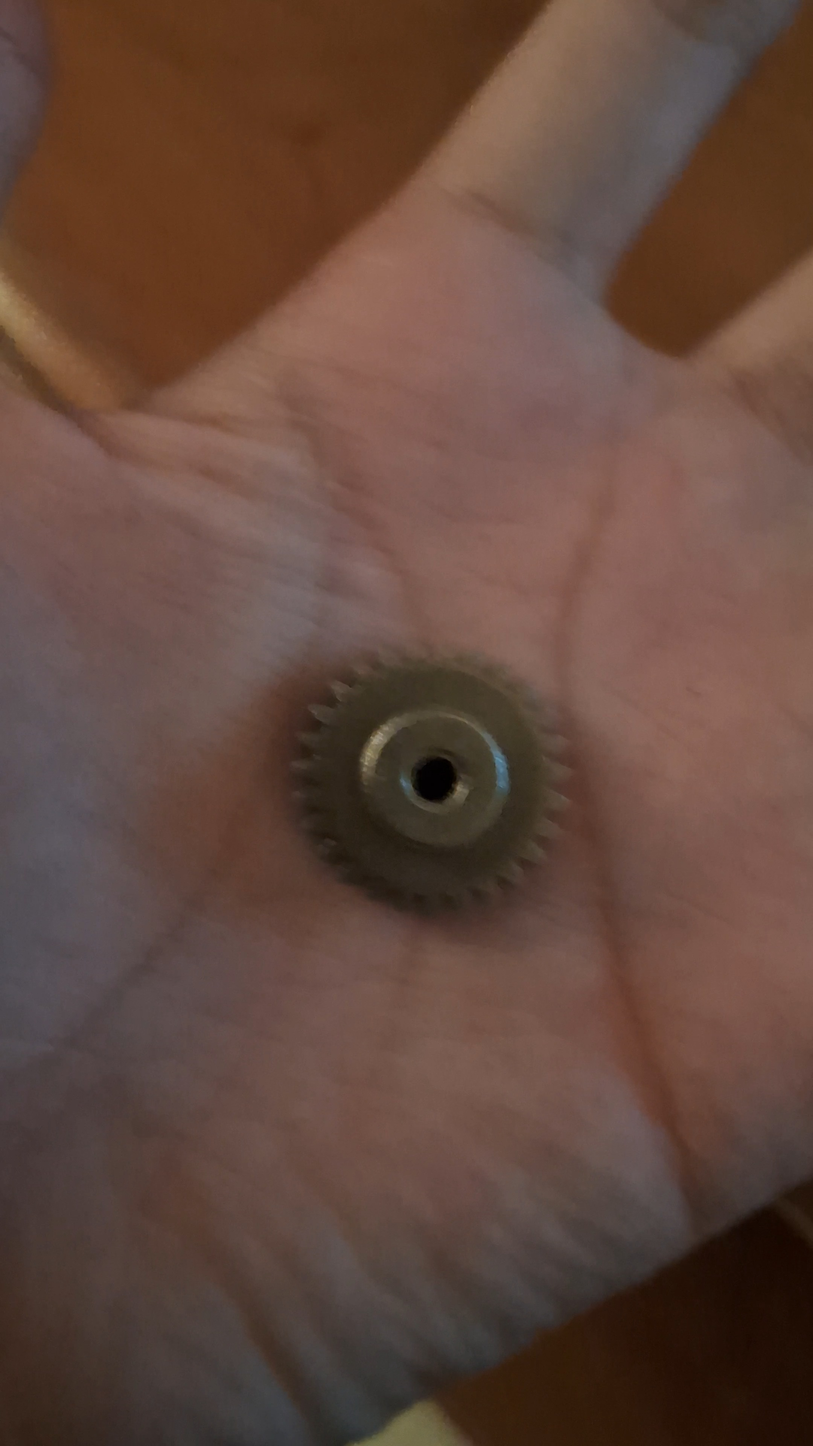spur gear: (294, 656, 567, 909)
